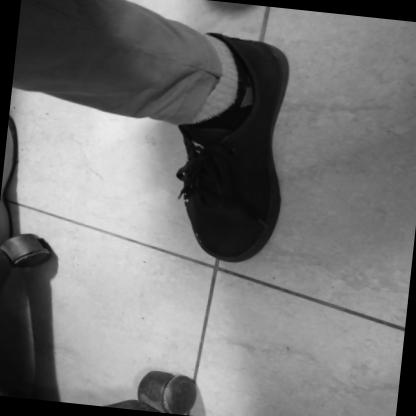ankle: (250, 101, 257, 108)
heel: (268, 48, 277, 55)
pinky: (191, 213, 200, 221)
right_foot: (167, 34, 298, 266)
toe: (243, 244, 250, 252)
